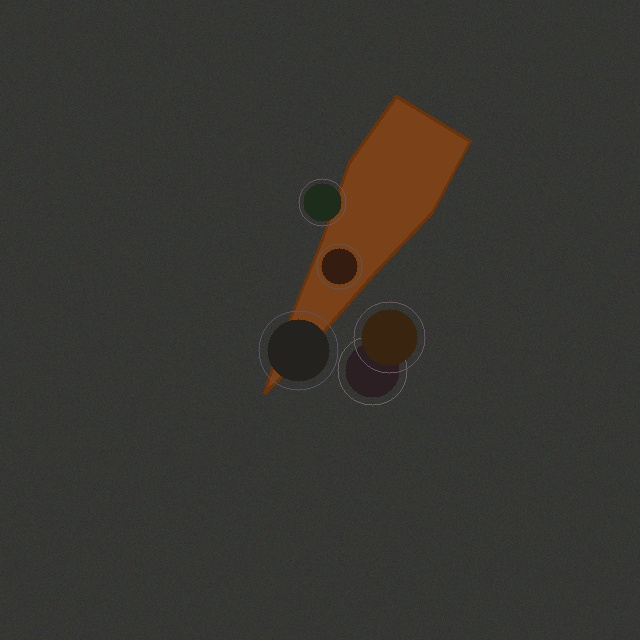Rotten_Carrot: (256, 88, 478, 401)
